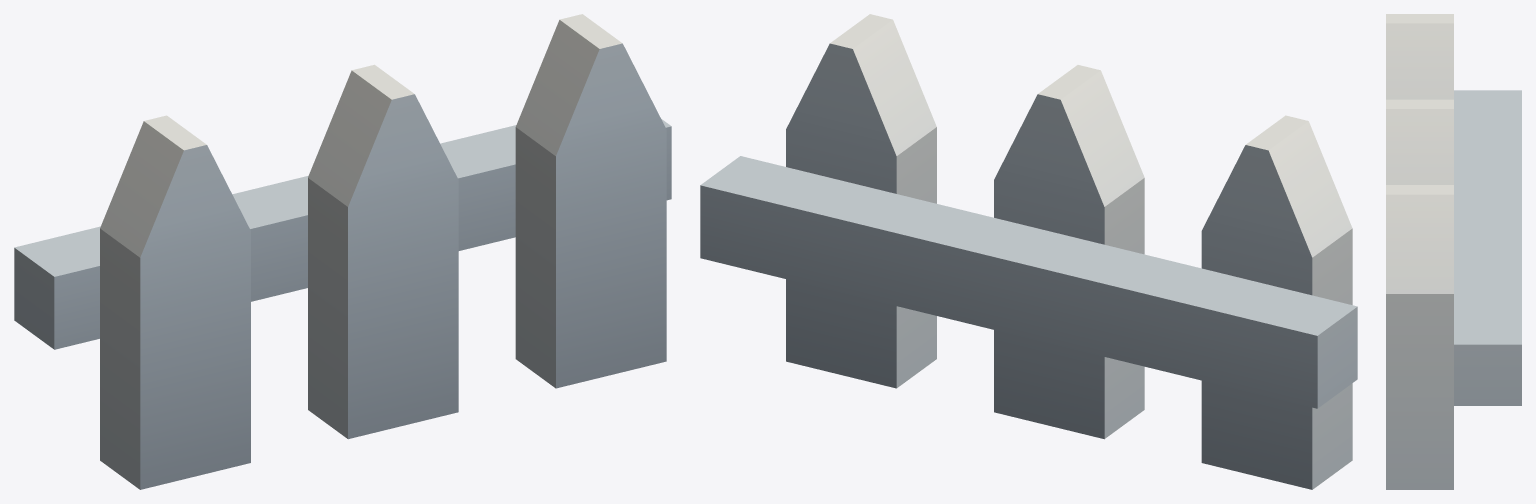
Rendered from Fence_1.fbx.
3 views of the same model, side by side, from view 1: azimuth 30°, elevation 25°; view 2: azimuth 150°, elevation 25°; view 3: azimuth 270°, elevation 25° (orthographic). The views are drawn at different scales.
Visible parts, largest first — view 1: Fence_1; view 2: Fence_1; view 3: Fence_1.
Boxes of the visible parts, left/top/right/bottom form: Fence_1: left=14, top=14, right=671, bottom=489; Fence_1: left=700, top=14, right=1357, bottom=489; Fence_1: left=1386, top=14, right=1521, bottom=489.
Bounding box in the file's own units: 322 × 164 × 72.63.
